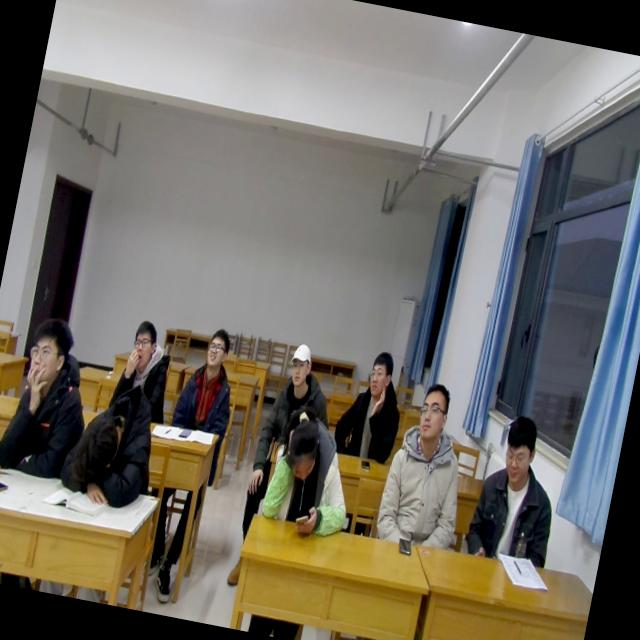bow: (54, 368, 170, 516), (256, 399, 368, 540)
down: (276, 408, 328, 492), (492, 410, 542, 494)
lookup: (20, 308, 80, 396), (411, 375, 456, 447), (120, 313, 162, 379), (358, 344, 400, 409), (280, 338, 318, 397), (200, 318, 234, 372)
sit: (370, 374, 483, 558), (460, 406, 575, 574), (0, 308, 103, 488), (327, 343, 416, 469), (168, 320, 248, 439), (258, 336, 339, 450), (105, 313, 181, 427)
